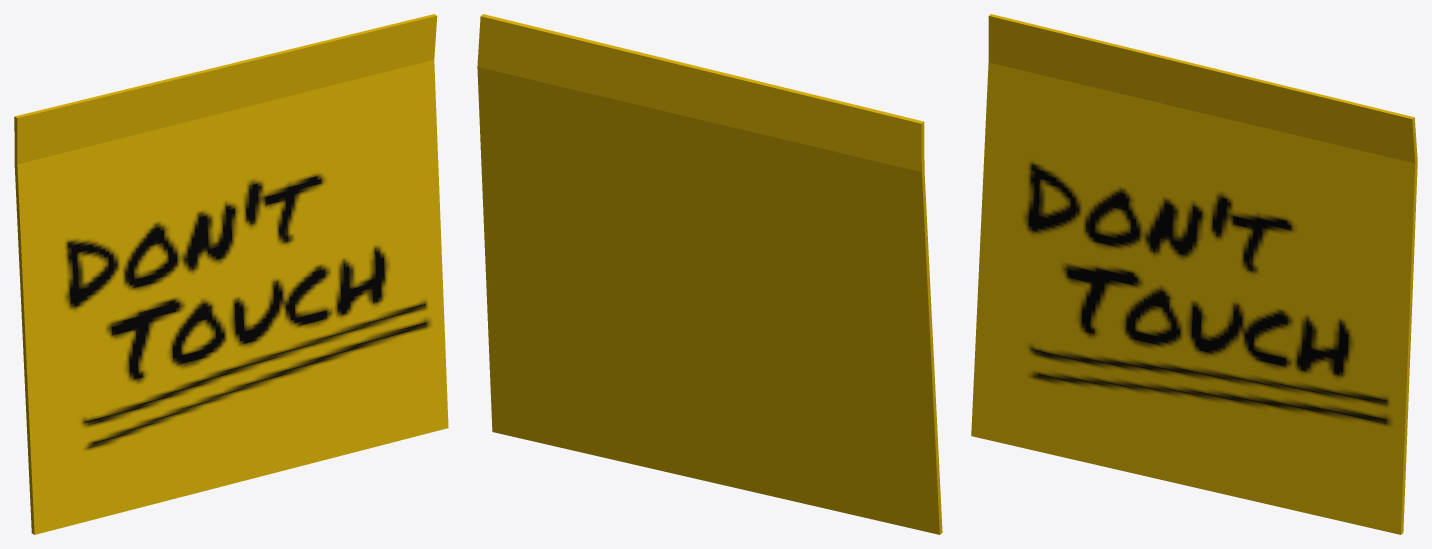
File: StickyNotesV2Yellow_T.fbx
3 renders of one model, left to right at view 1: azimuth 30°, elevation 25°; view 2: azimuth 150°, elevation 25°; view 3: azimuth 330°, elevation 25°, orthographic. The views are drawn at different scales.
Parts seen in each view (by area): view 1: StickyNotesV2Yellow_T; view 2: StickyNotesV2Yellow_T; view 3: StickyNotesV2Yellow_T.
Part boxes in pixels (x1,y1,x2,y2): StickyNotesV2Yellow_T: (14, 14, 448, 534); StickyNotesV2Yellow_T: (477, 14, 942, 534); StickyNotesV2Yellow_T: (971, 14, 1417, 534).
Size of the model in its own units: 5.41 by 4.97 by 0.5116.
